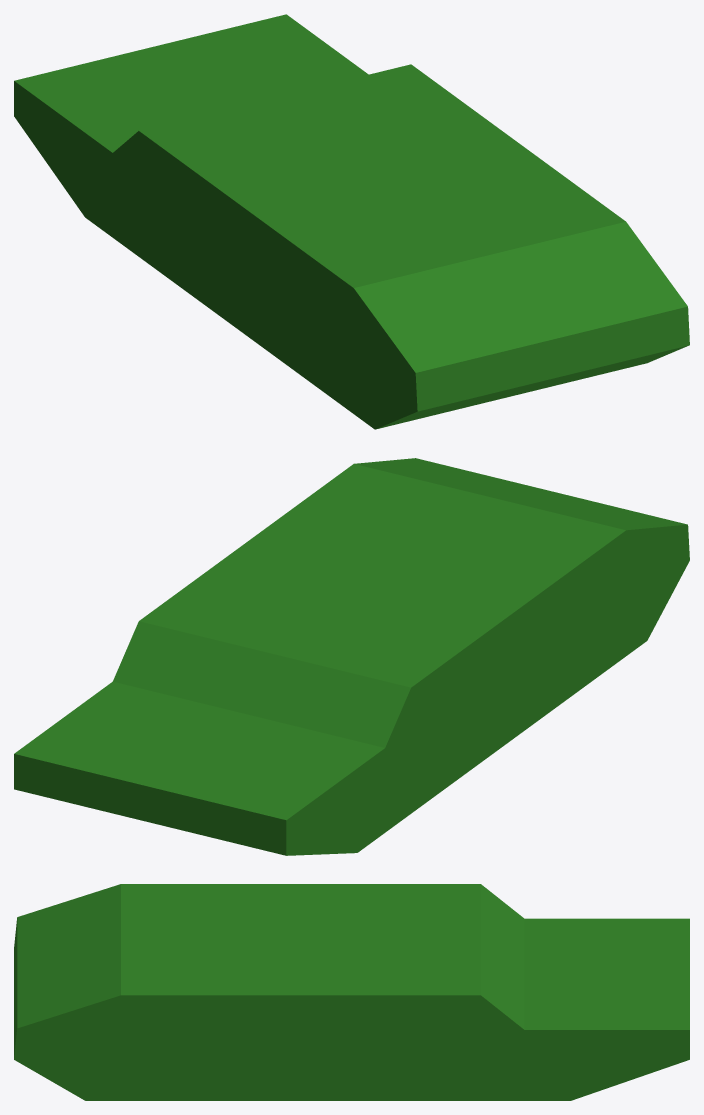
The model's file is Chasis.glb.
3 renders of one model, top to bottom at view 1: azimuth 30°, elevation 25°; view 2: azimuth 150°, elevation 25°; view 3: azimuth 270°, elevation 25°, orthographic. The views are drawn at different scales.
Parts seen in each view (by area): view 1: Chasis; view 2: Chasis; view 3: Chasis.
Boxes of the visible parts, left/top/right/bottom form: Chasis: left=14, top=14, right=689, bottom=429; Chasis: left=14, top=458, right=689, bottom=855; Chasis: left=14, top=884, right=689, bottom=1100.
Bounding box in the file's own units: 0.12 × 0.0531 × 0.3079.
